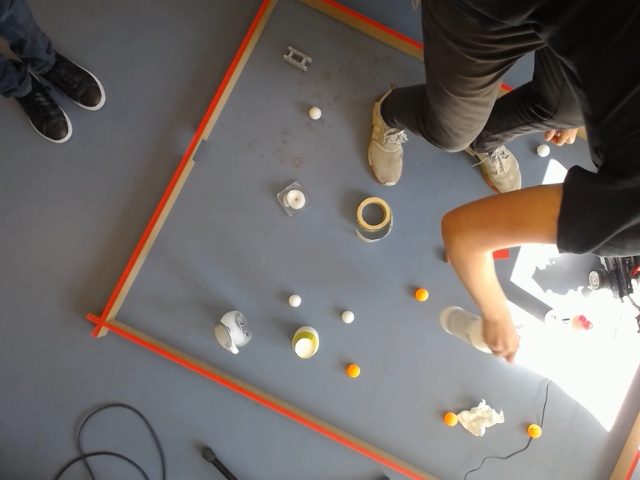orange: (215, 321, 229, 348), (413, 287, 430, 302), (527, 424, 541, 439), (346, 363, 360, 378), (444, 411, 457, 426)
white: (293, 326, 319, 359), (281, 186, 307, 217), (217, 313, 232, 349), (215, 318, 230, 349), (307, 105, 323, 122), (340, 309, 356, 325), (287, 293, 303, 309), (221, 335, 235, 353), (536, 142, 550, 158)
